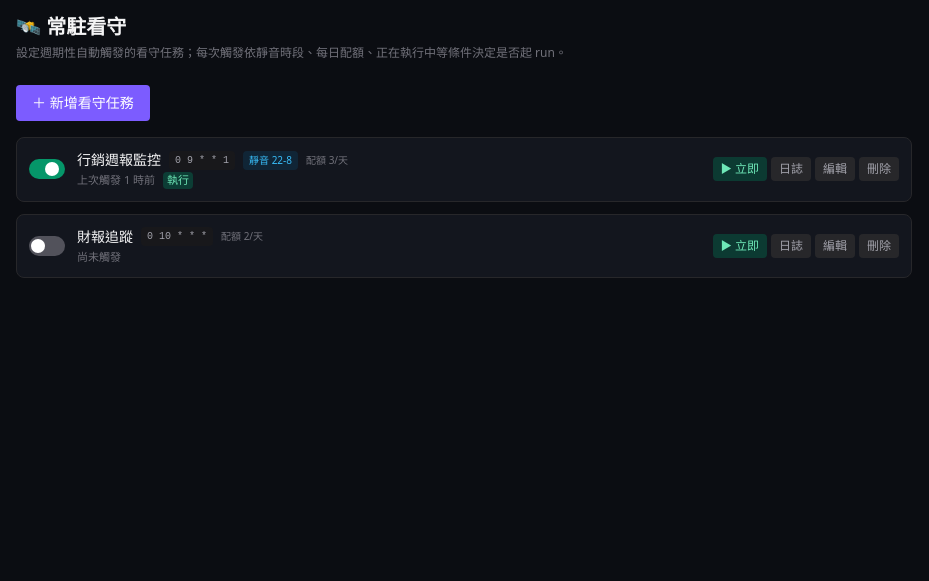
Test: WatchtowerPanel — 新增任務 › 送出空名稱時顯示錯誤，不呼叫 API
Expected: the text "行銷週報監控" is shown, [77,150,161,170]
Click the button "＋ 新增看守任務" at (83, 103), box [16,85,150,121]
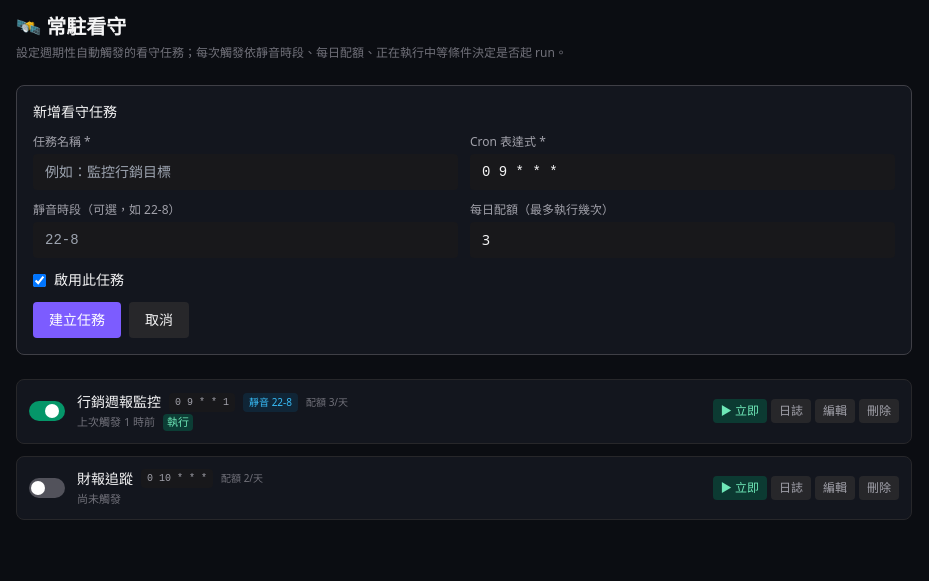
# 清空 name 欄位（預設是空的），直接送出
Click the button "建立任務" at (77, 320), box [33,302,121,338]
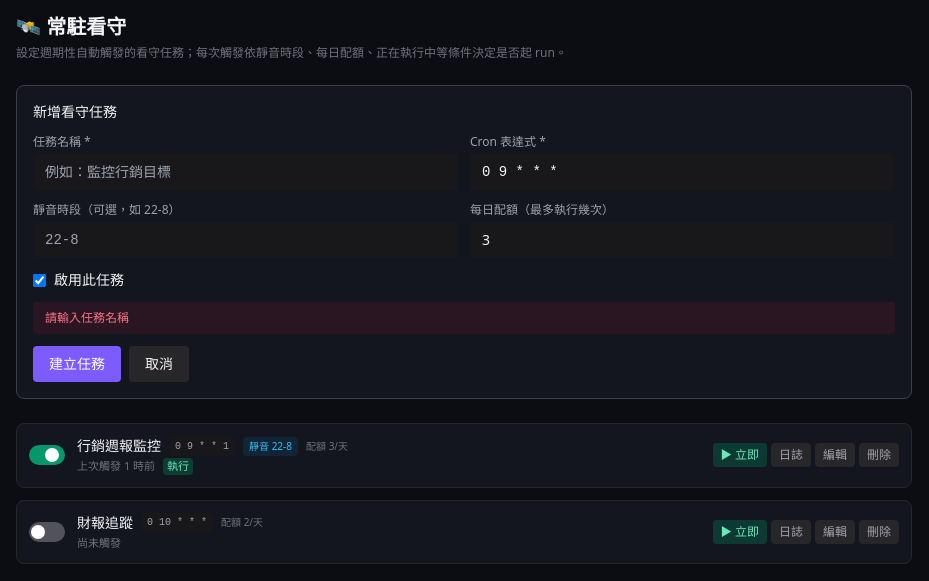
Result: the text "請輸入任務名稱" is shown at [33,302,895,334]
